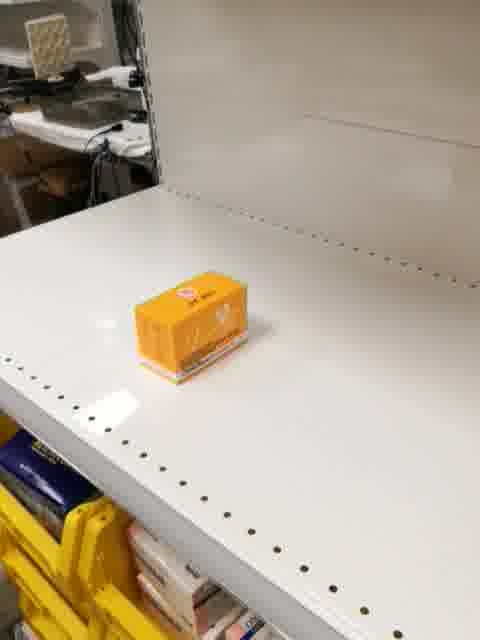jasminetea: (134, 269, 248, 386)
